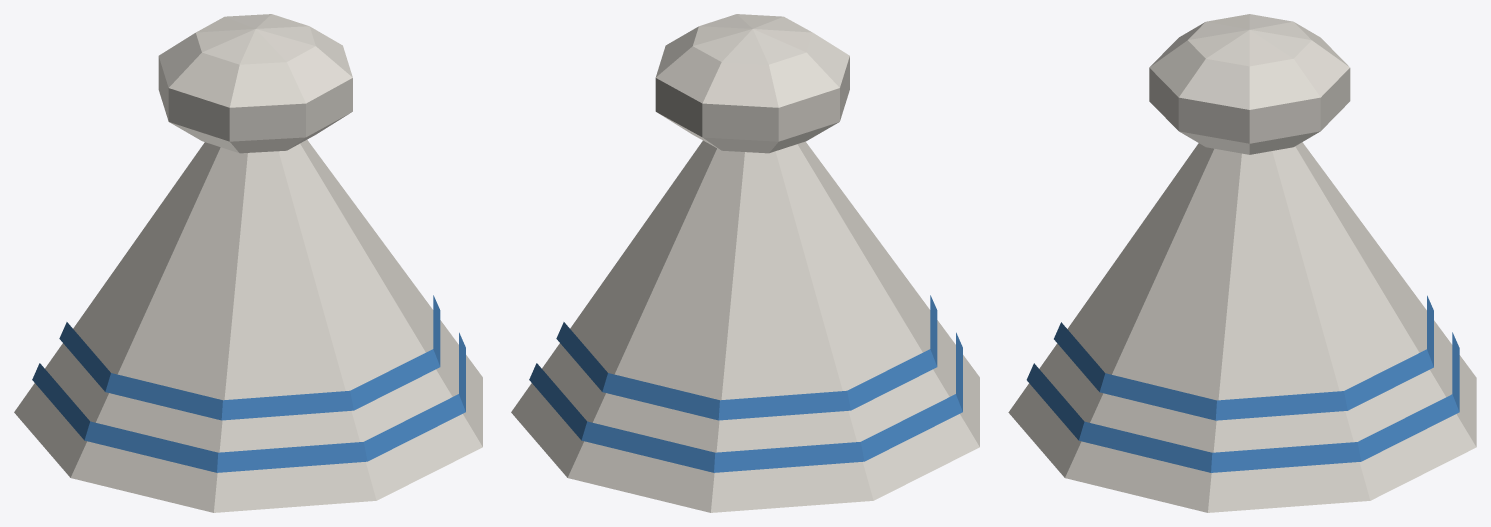
The model's file is customer_towel.glb.
The picture shows the model from 3 angles, left to right: view 1: azimuth 30°, elevation 25°; view 2: azimuth 150°, elevation 25°; view 3: azimuth 270°, elevation 25°; orthographic projection.
Parts seen in each view (by area): view 1: drape_towel_white, stripes_towel_stripe; view 2: drape_towel_white, stripes_towel_stripe; view 3: drape_towel_white, stripes_towel_stripe.
Part boxes in pixels (<box>): drape_towel_white: <box>14,14,482,512</box>; stripes_towel_stripe: <box>32,295,465,472</box>; drape_towel_white: <box>511,14,979,512</box>; stripes_towel_stripe: <box>529,295,962,472</box>; drape_towel_white: <box>1008,14,1476,512</box>; stripes_towel_stripe: <box>1026,295,1459,472</box>.
Size of the model in its own units: 0.6303 by 0.56 by 0.6207.
